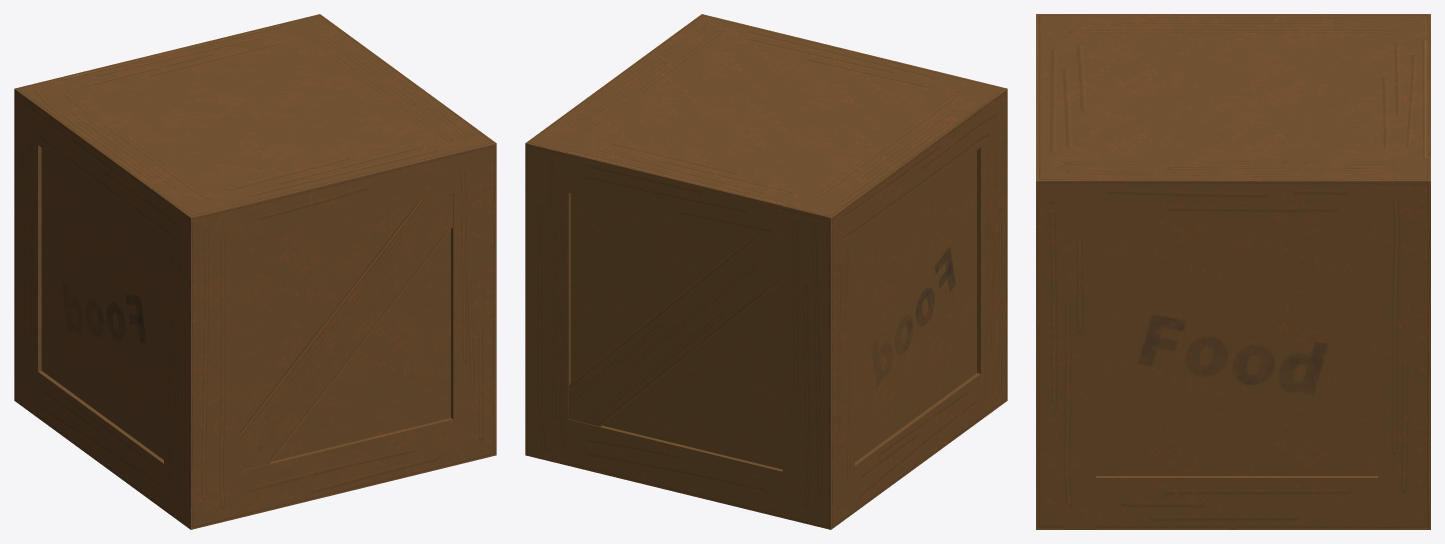
The model's file is Crate.fbx.
The picture shows the model from 3 angles, left to right: view 1: azimuth 30°, elevation 25°; view 2: azimuth 150°, elevation 25°; view 3: azimuth 270°, elevation 25°; orthographic projection. The views are drawn at different scales.
Parts seen in each view (by area): view 1: Cube; view 2: Cube; view 3: Cube.
Part boxes in pixels (x1,y1,x2,y2): Cube: (14, 14, 496, 529); Cube: (525, 14, 1007, 529); Cube: (1036, 14, 1430, 529).
Size of the model in its own units: 205 by 200 by 205.
